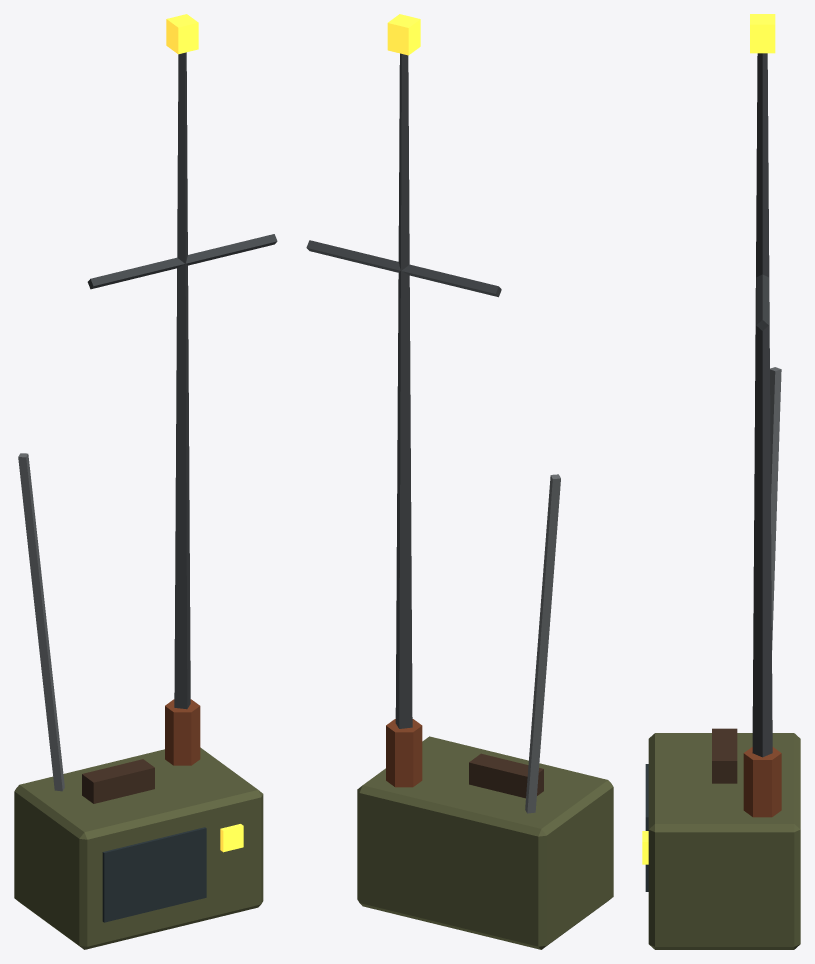
The model's file is upg_radio_booster.glb.
The picture shows the model from 3 angles, left to right: view 1: azimuth 30°, elevation 25°; view 2: azimuth 150°, elevation 25°; view 3: azimuth 270°, elevation 25°; orthographic projection. The views are drawn at different scales.
Visible parts, largest first — view 1: radio_booster; view 2: radio_booster; view 3: radio_booster.
Part boxes in pixels (x1,y1,x2,y2): radio_booster: (14,14,277,949); radio_booster: (306,14,613,949); radio_booster: (642,14,800,949).
Size of the model in its own units: 0.49 by 1.6 by 0.25.
